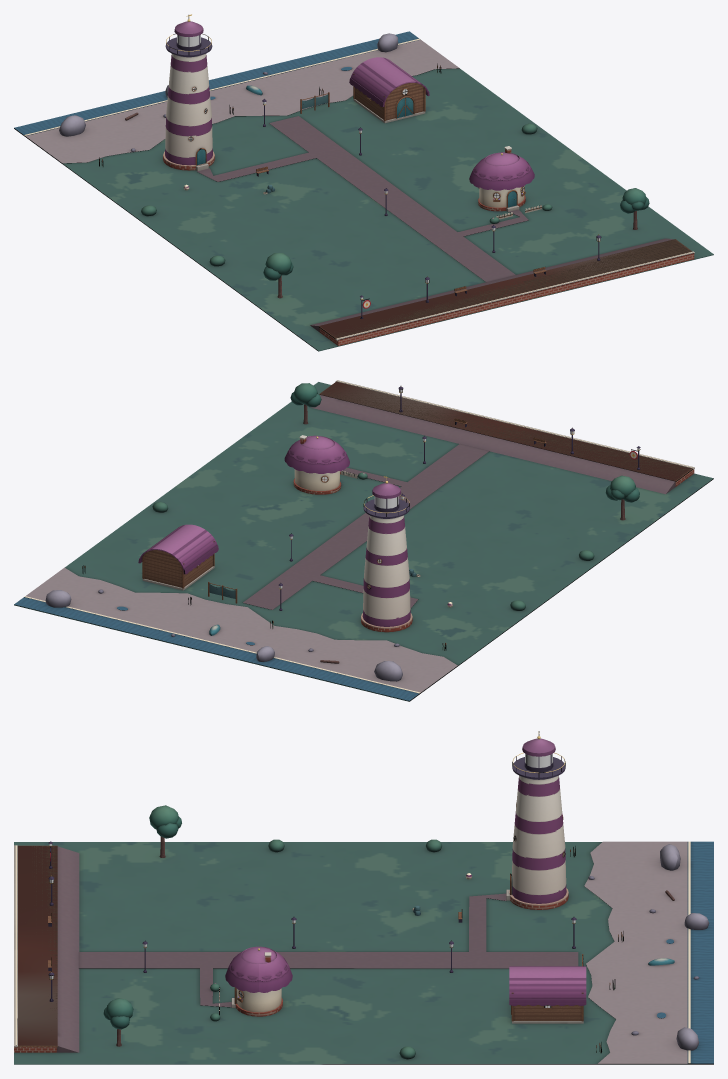
The model's file is stop_lighthouse.fbx.
3 views of the same model, one above another, from view 1: azimuth 30°, elevation 25°; view 2: azimuth 150°, elevation 25°; view 3: azimuth 270°, elevation 25° (orthographic). The views are drawn at different scales.
Visible parts, largest first — view 1: stop_lighthouse; view 2: stop_lighthouse; view 3: stop_lighthouse.
Boxes of the visible parts, x1,y1,x2,y2 form: stop_lighthouse: (14,14,713,351); stop_lighthouse: (14,380,713,701); stop_lighthouse: (14,731,713,1064).
Bounding box in the file's own units: 12000 × 4220 × 16000.
Materials: 2 (1 with a texture image).
